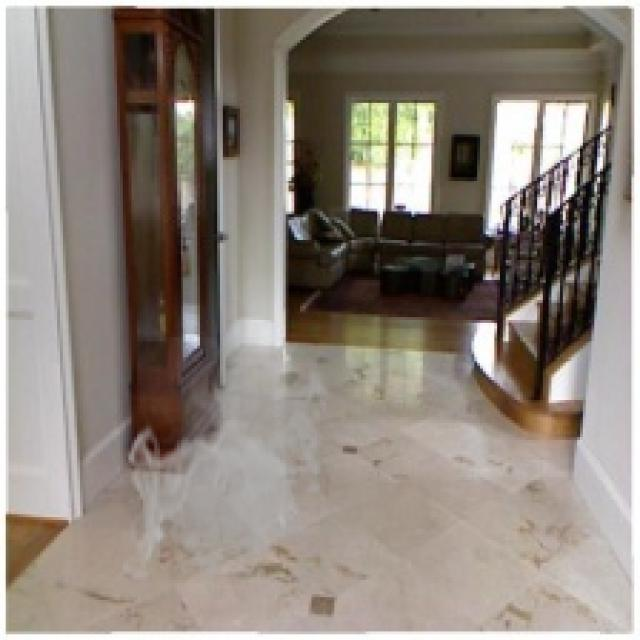smoke: (123, 337, 334, 589)
